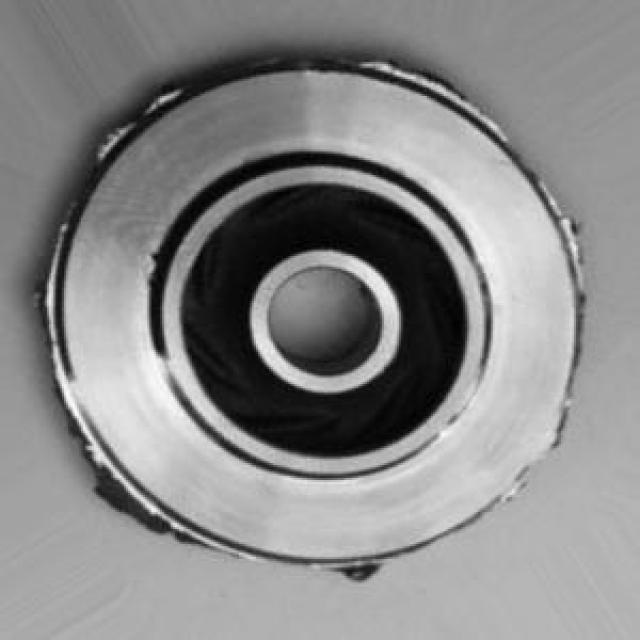Defect: (87, 465, 161, 536), (397, 55, 459, 112), (328, 556, 398, 596), (92, 106, 137, 152)
